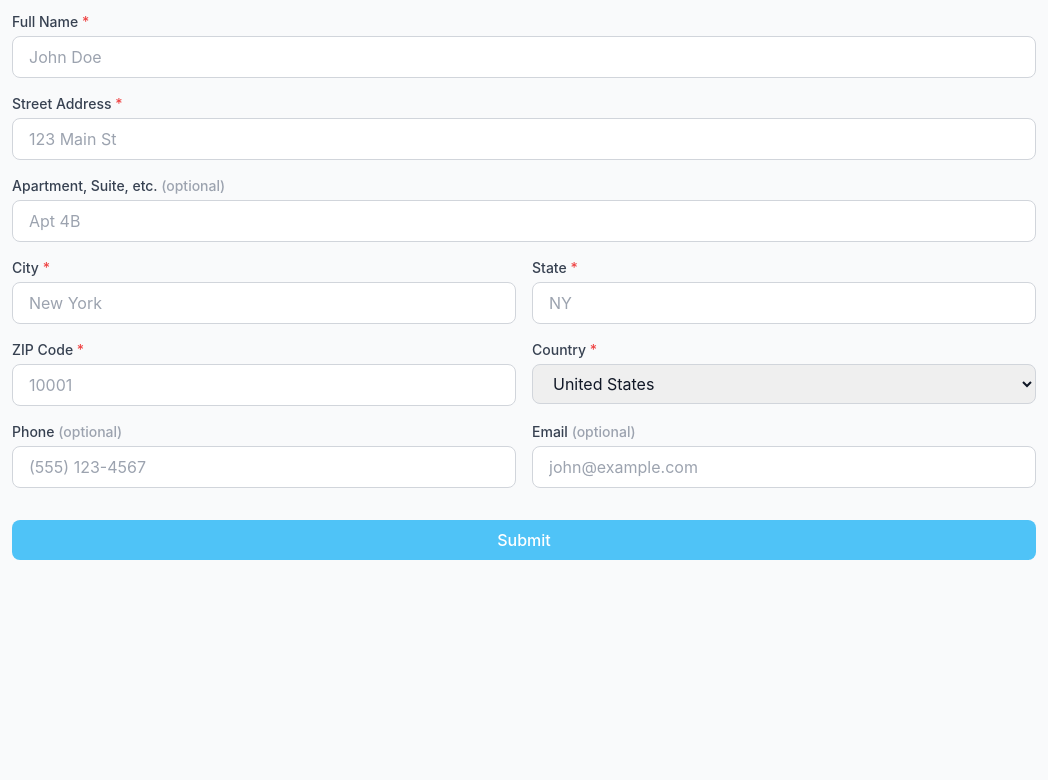
Test: AddressForm - Smoke Tests › shows validation errors for empty required fields
// Submit without filling any fields
Click the button "Submit" at (524, 540), box top-left (12, 520), bottom-right (1036, 560)
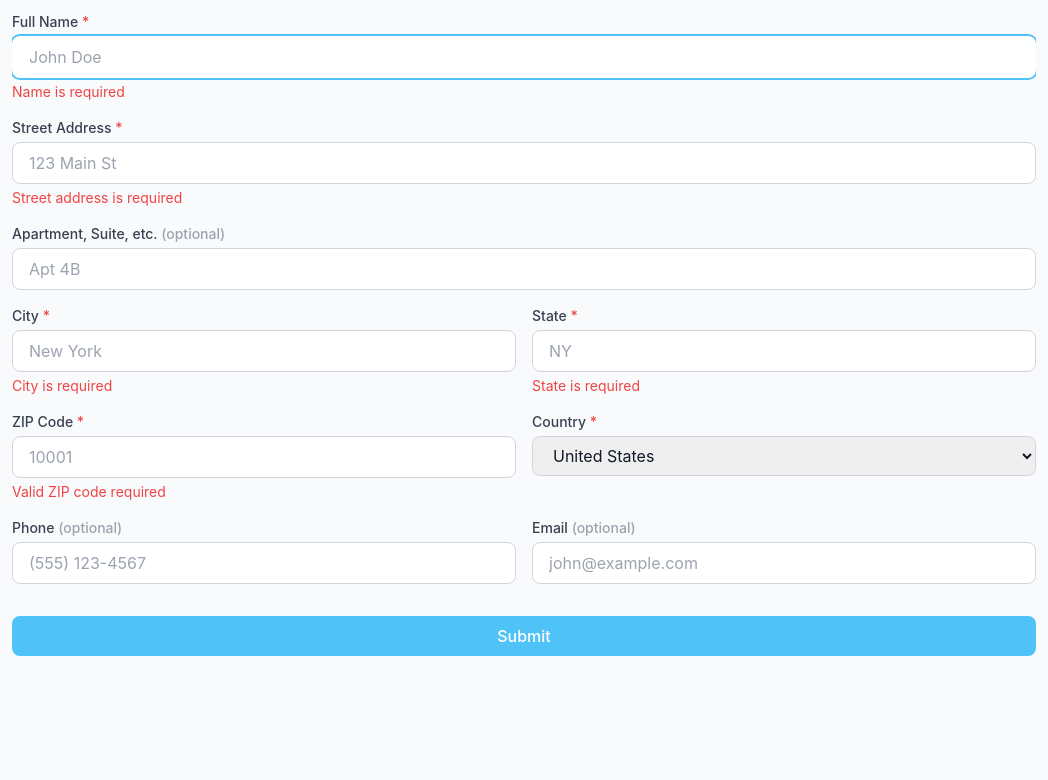
Now the text "Name is required" is shown, box top-left (12, 83), bottom-right (125, 100)
Now the text "Street address is required" is shown, box top-left (12, 189), bottom-right (182, 206)
Now the text "City is required" is shown, box top-left (12, 377), bottom-right (112, 394)
